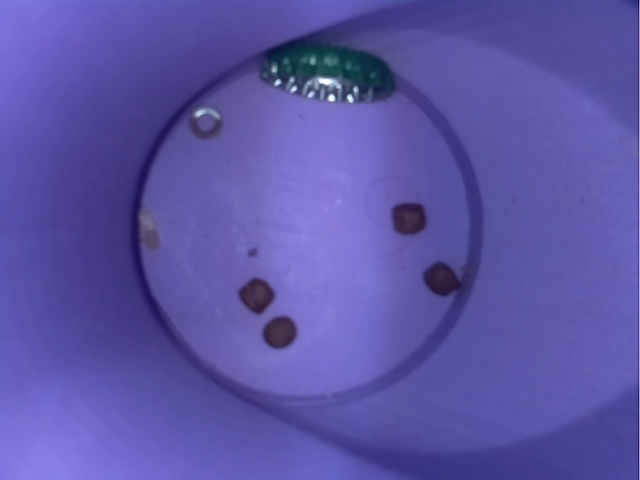capsule: (257, 31, 409, 110)
croquette: (417, 249, 468, 310), (384, 197, 430, 242), (254, 310, 300, 355), (235, 272, 276, 321)
